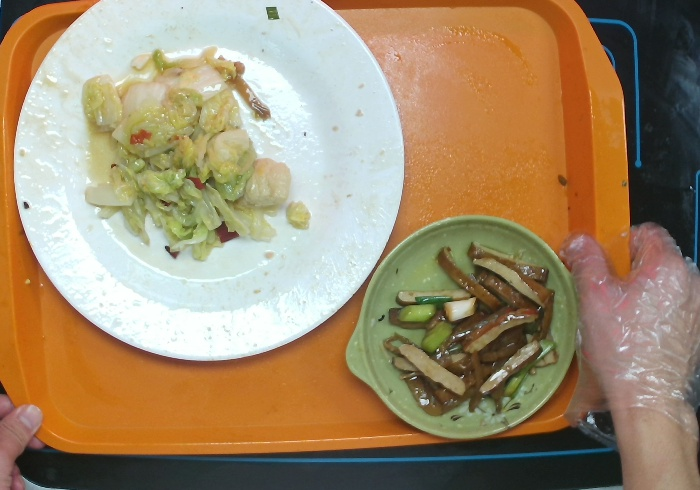NLDX-Da_Yuan_Pan: (7, 1, 412, 368)
NLDX-Lv_Hua_Shuang_Er_Die: (339, 208, 596, 445)
